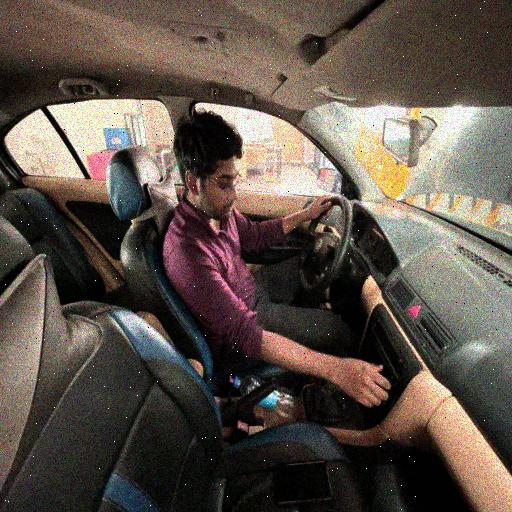operatingradio: (163, 110, 394, 410)
